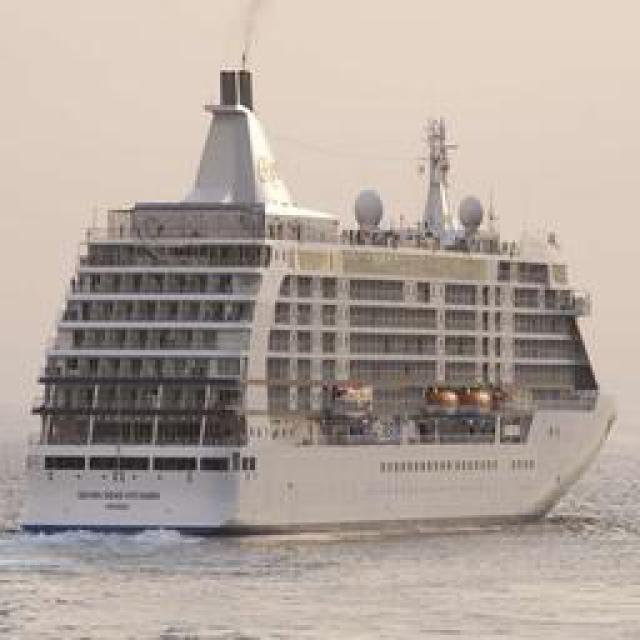Ship: (19, 86, 624, 534)
